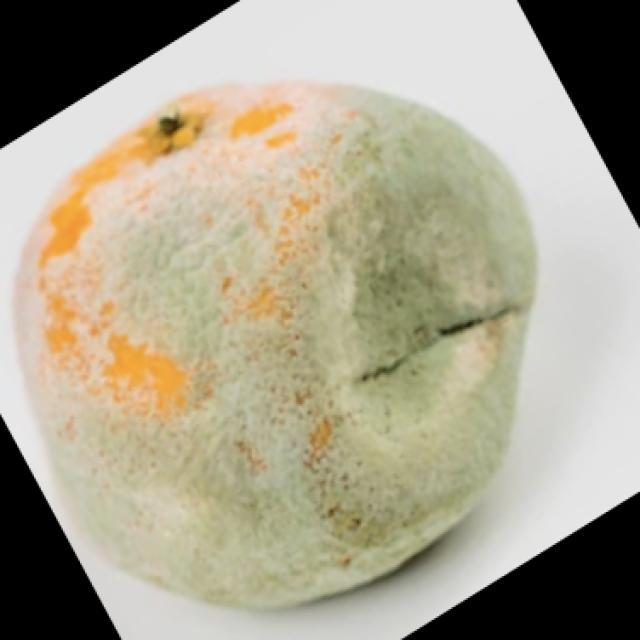sangat-busuk: (18, 82, 535, 606)
